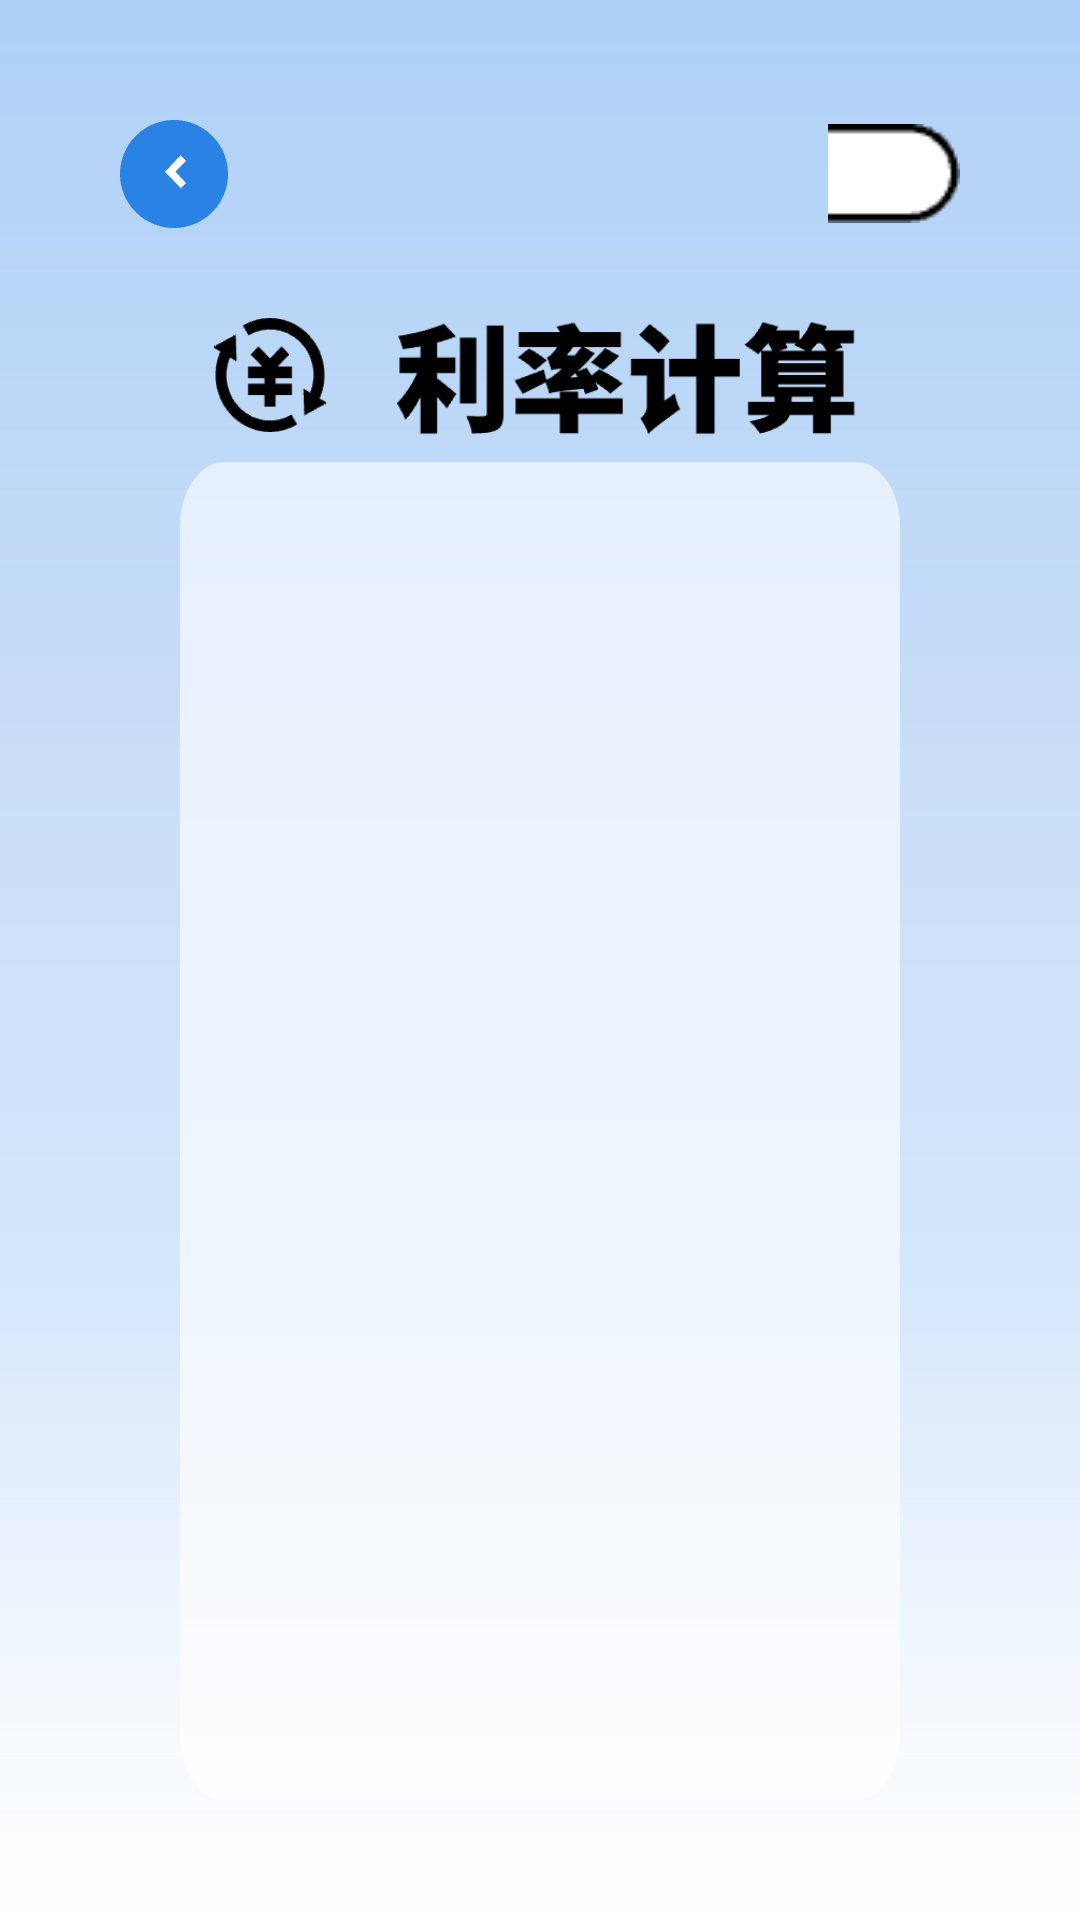

Point at icon controls on the screen. Image size 1080px×1920px, points as (x,y).
back: (174,174)
money: (270,375)
